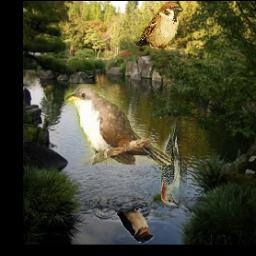Cuckoo: (64, 85, 171, 166)
Sparrow: (135, 2, 183, 52)
Swallow: (116, 205, 156, 243)
Woodpecker: (161, 120, 187, 207)
